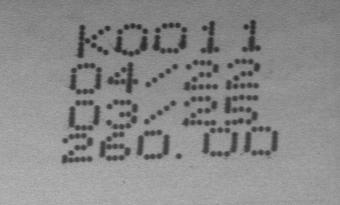.: (172, 142, 199, 166)
/: (143, 61, 182, 90), (141, 98, 180, 127)
0: (134, 126, 173, 164), (200, 125, 240, 161), (152, 20, 190, 57), (113, 22, 151, 58), (242, 124, 280, 158), (66, 99, 102, 132), (68, 62, 103, 95)
1: (195, 18, 224, 56), (241, 18, 264, 53)
2: (181, 57, 224, 92), (179, 94, 222, 129), (224, 57, 265, 92), (60, 132, 95, 165)
3: (104, 98, 139, 131)
4: (105, 61, 143, 95)
5: (222, 94, 262, 127)
6: (97, 129, 135, 165)
K: (74, 23, 113, 60)
